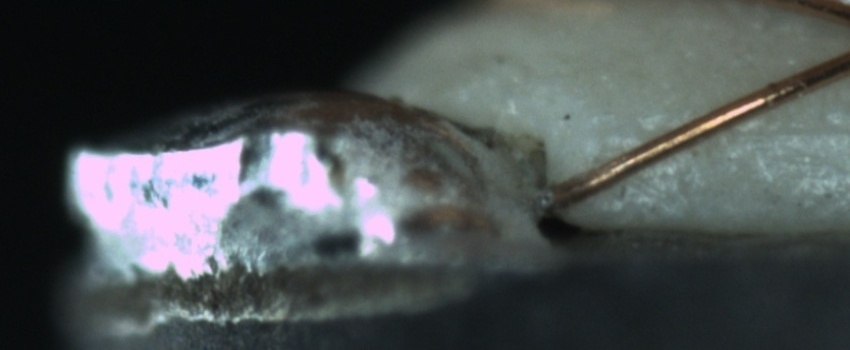DL: (609, 98, 849, 163)
